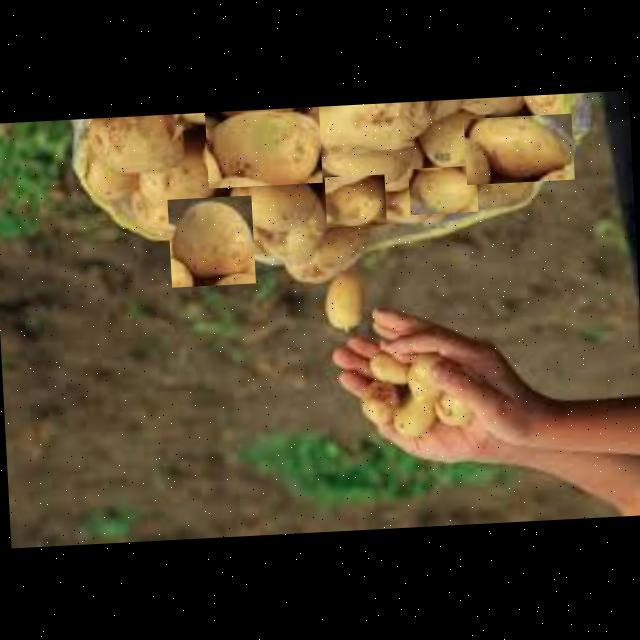Defected potato: (205, 106, 323, 188)
Diseased-fungal potato: (359, 378, 404, 426)
Potato: (168, 195, 255, 288), (464, 114, 575, 186), (319, 263, 373, 336), (408, 166, 478, 215), (324, 175, 388, 228)
